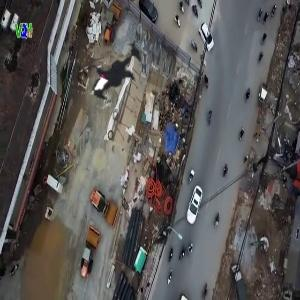drone: (61, 15, 167, 121)
